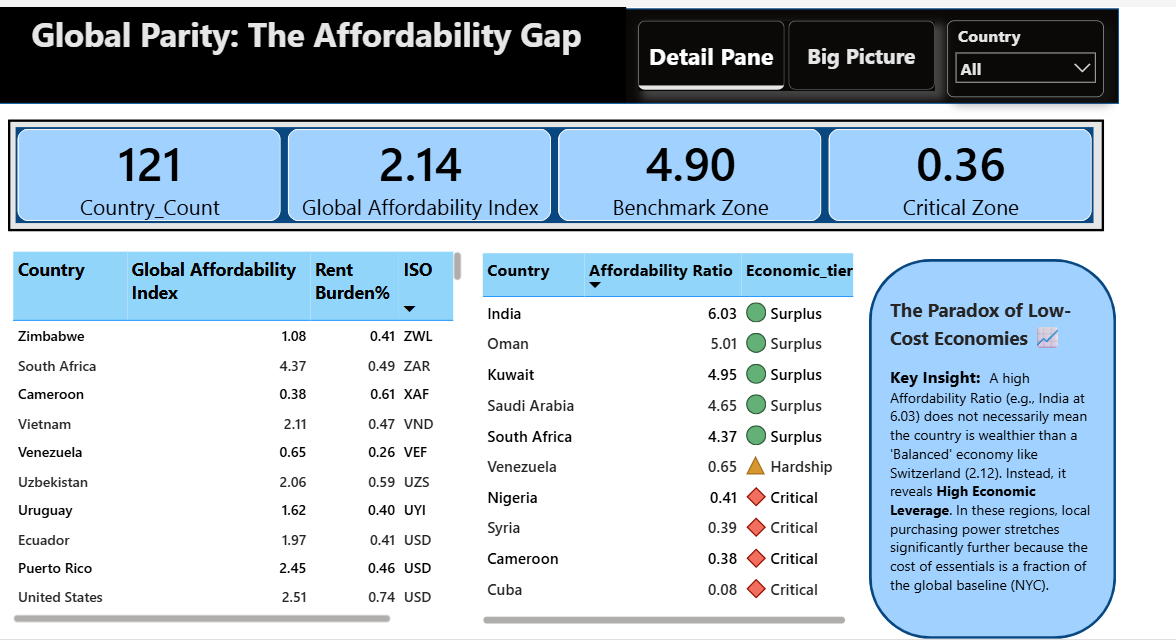

The page's visual inventory and layout, read from the dashboard file:
{"tool":"powerbi","page":{"name":"Detail Pane","canvas":[1280,720],"ordinal":0},"visuals":[{"type":"shape","box":[0,1.9,1279.4,108.5],"z":0},{"type":"cardVisual","fields":{"Data":["_measure.Country_Count","_measure.Global Affordability Index","_measure.Benchmark Zone","_measure.Critical Zone"]},"box":[13.3,127.6,1248.9,127.6],"z":1000},{"type":"tableEx","fields":{"Values":["cost_of_living_indices.Country","_measure.Global Affordability Index","_measure.Rent Burden%","Currency.ISO_Code"]},"box":[13.2,274,521.6,432.8],"z":2000},{"type":"actionButton","box":[0,0,100,40],"z":3000},{"type":"slicer","fields":{"Values":["cost_of_living_indices.Country"]},"box":[1083.3,15.2,179,87.6],"z":4000},{"type":"tableEx","fields":{"Values":["Top_Bottom_Table.Country","Avg(Top_Bottom_Table.Affordability Ratio)","Top_Bottom_Table.Economic_tier"]},"box":[548,275.9,432.8,432.8],"z":5000},{"type":"pageNavigator","box":[731.1,15.2,338.9,80],"z":6000},{"type":"textbox","box":[0,0,717.7,108.5],"z":7000},{"type":"textbox","box":[1012.9,296.7,230.6,379.8],"z":8000},{"type":"shape","box":[994,287.2,281.6,432.8],"z":9000},{"type":"textbox","box":[1012.9,325,249.5,351.5],"z":10000}]}

Visuals, with their boxes on the page's 1280x720 design canvas (x1, y1, x2, y2). These are canvas units, not pixel positions in the 1176x640 screenshot, which may show the page scaled, cropped or inside an application window:
shape: [0,2,1279,110]
cardVisual - _measure.Country_Count x _measure.Global Affordability Index: [13,128,1262,255]
tableEx - cost_of_living_indices.Country x _measure.Global Affordability Index: [13,274,535,707]
actionButton: [0,0,100,40]
slicer - cost_of_living_indices.Country: [1083,15,1262,103]
tableEx - Top_Bottom_Table.Country x Avg(Top_Bottom_Table.Affordability Ratio): [548,276,981,709]
pageNavigator: [731,15,1070,95]
textbox: [0,0,718,108]
textbox: [1013,297,1244,676]
shape: [994,287,1276,720]
textbox: [1013,325,1262,676]
